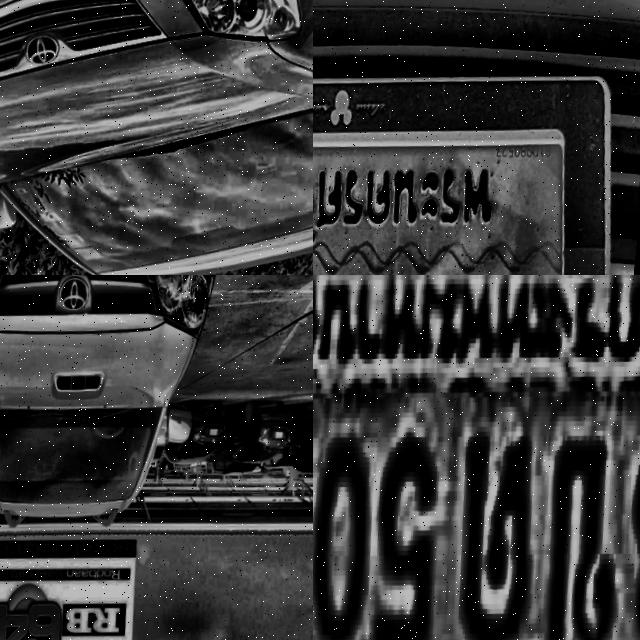license-plate: (313, 275, 640, 640), (313, 17, 640, 275), (215, 420, 227, 435), (281, 422, 292, 436)
